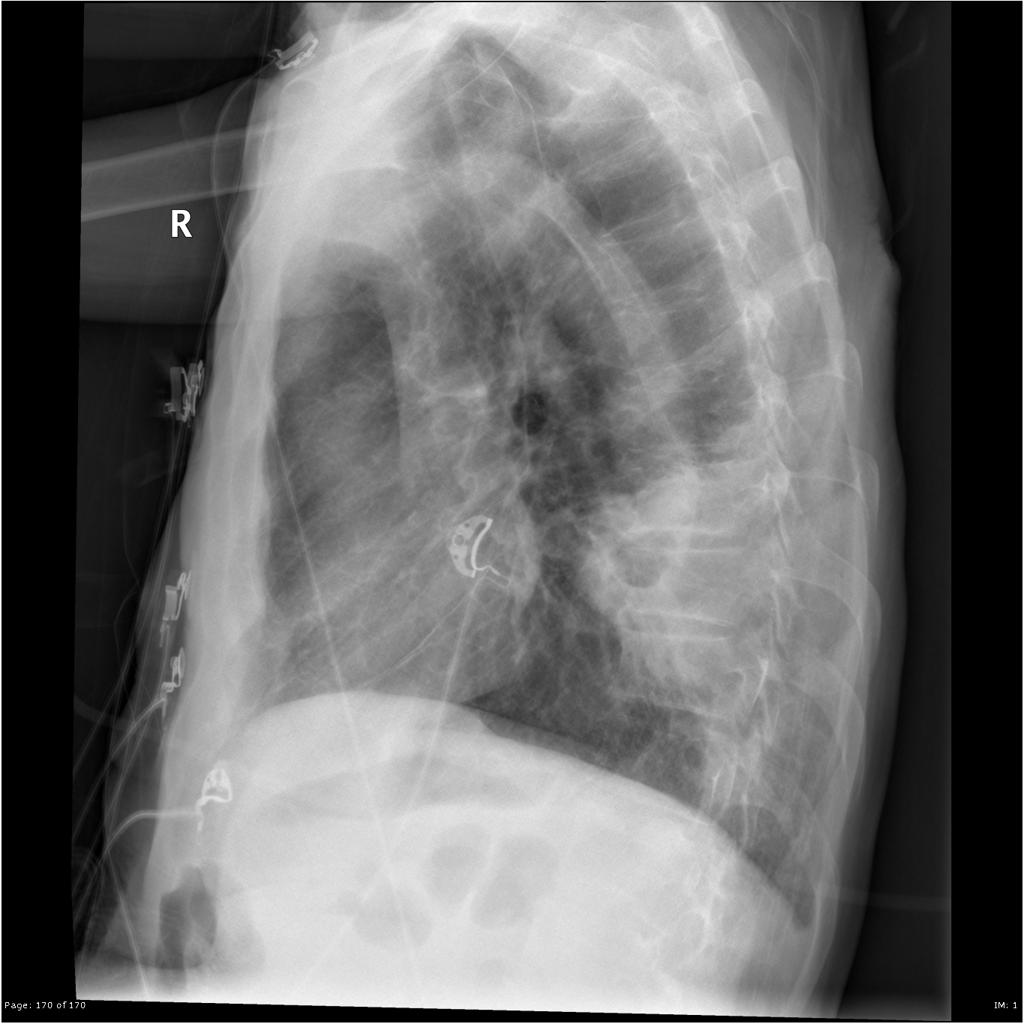cancer: (351, 147, 735, 776)
